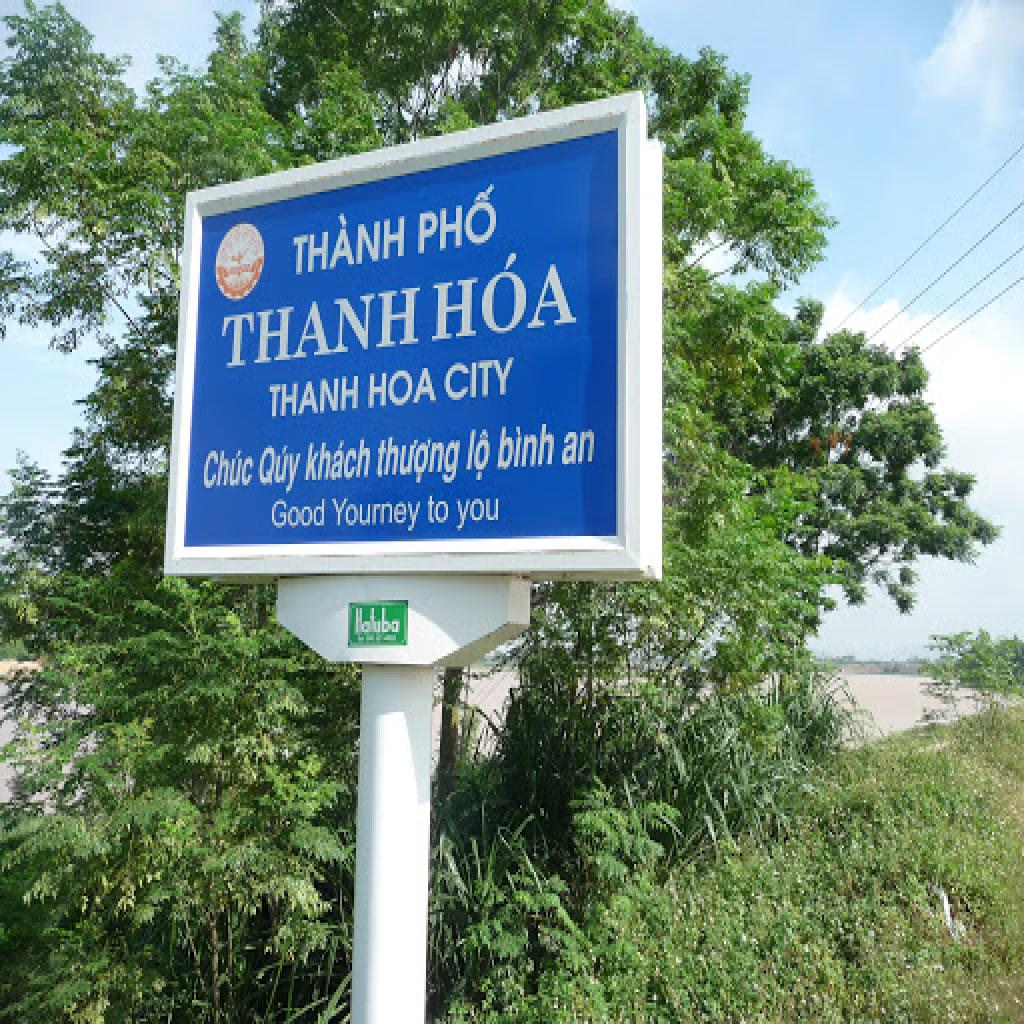text: (220, 286, 426, 374), (430, 248, 584, 349), (288, 203, 408, 280), (414, 181, 500, 259), (374, 432, 466, 491), (266, 371, 362, 421), (438, 352, 522, 405), (330, 496, 424, 539), (302, 435, 378, 485), (366, 362, 442, 410), (494, 421, 560, 475), (258, 442, 308, 498), (202, 445, 258, 491), (270, 496, 328, 533), (454, 496, 504, 536), (462, 427, 494, 488), (354, 606, 404, 638), (560, 427, 598, 469), (428, 496, 452, 528)
